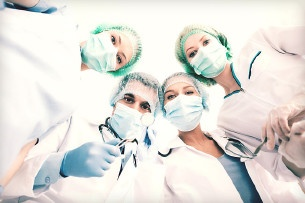Mask: (113, 90, 163, 138)
